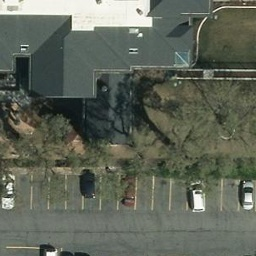car: (233, 177, 256, 218), (186, 178, 207, 214), (120, 175, 141, 207), (1, 171, 16, 208), (79, 173, 94, 199)
